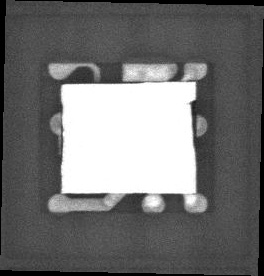DIE_BROKEN: (186, 100, 196, 167), (60, 102, 65, 170)
